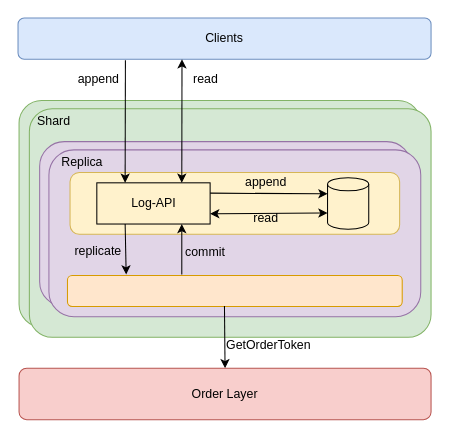
The diagram is 449 pixels wide and 438 high, and some of its shapes have lost their labels. Here are the shapes that lost their labels. From the top down, the centre of each, then its label:
At point (348, 203): "PM".
At point (234, 290): "Order- and Replication Framework".
